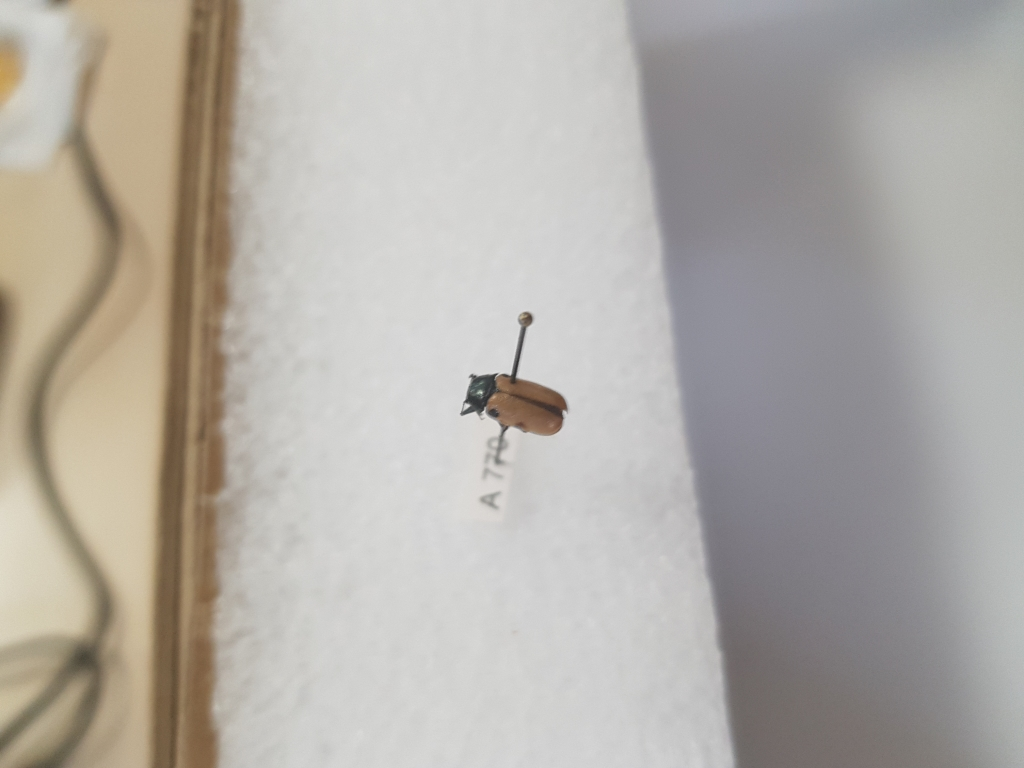Labidostomis_propinqua: (457, 372, 568, 443)
